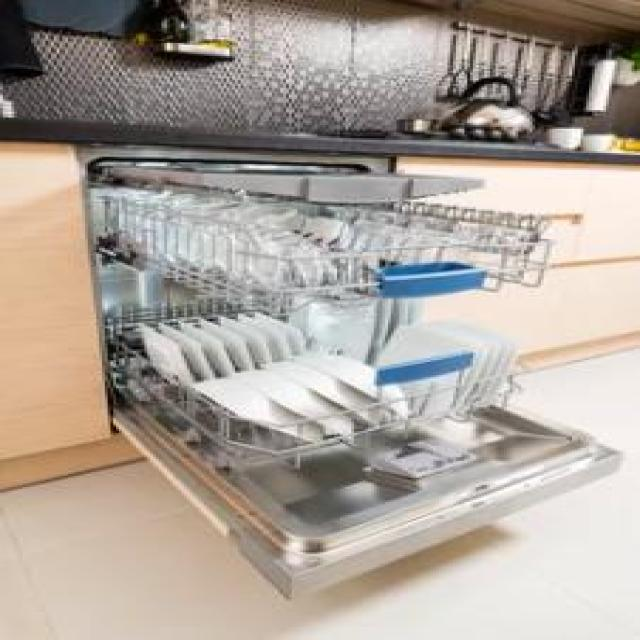dishwasher: (74, 142, 637, 602)
